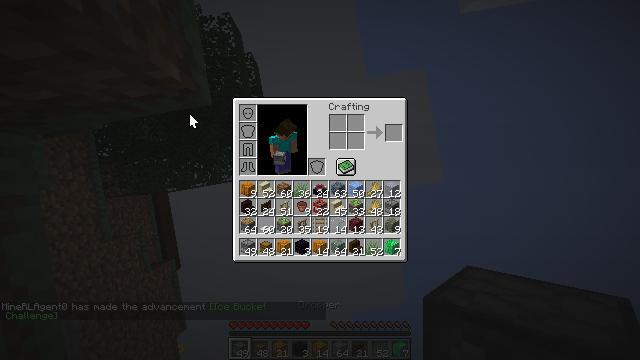cursor: (189, 113, 199, 129)
